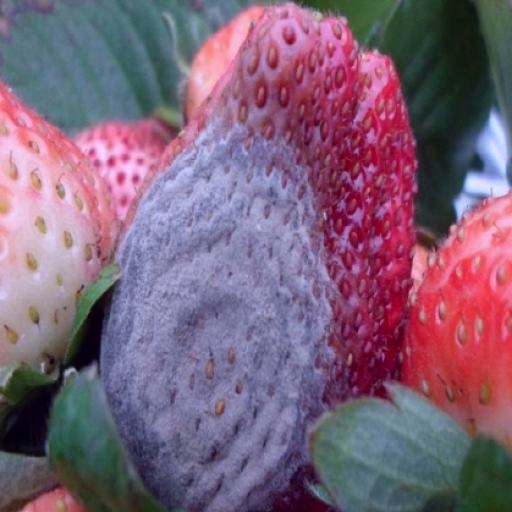Gray Mold: (126, 46, 414, 511)
